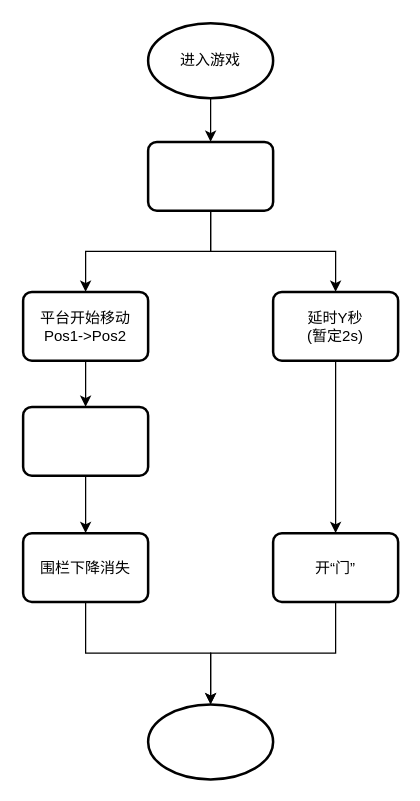
Image size: 420x801. Some labels were removed from this diagram. Here are the shapes that lost their labels. From the top down, the centre of each, then its label:
(x=210, y=175): 延时X秒 (暂定3s)
(x=85, y=440): 延时Z秒 (暂定2s)
(x=210, y=741): 结束
